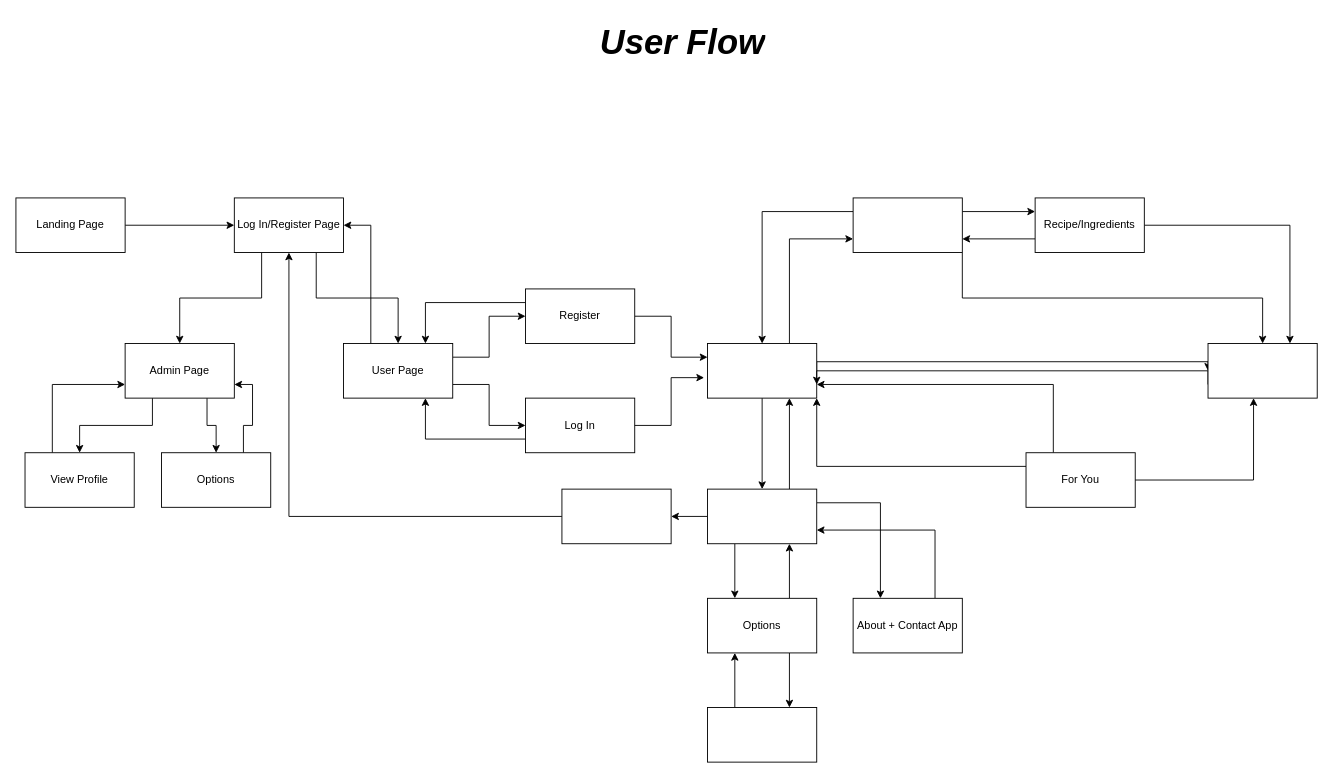
This 1333x778 diagram has some shape labels left out. Each missing label, with the centre of its shape:
"Log Out" belongs at [616,516].
"Main Page" belongs at [762,370].
"Preferences" belongs at [762,734].
"Search" belongs at [907,225].
"Shopping Cart" belongs at [1262,370].
"User Profile" belongs at [762,516].
